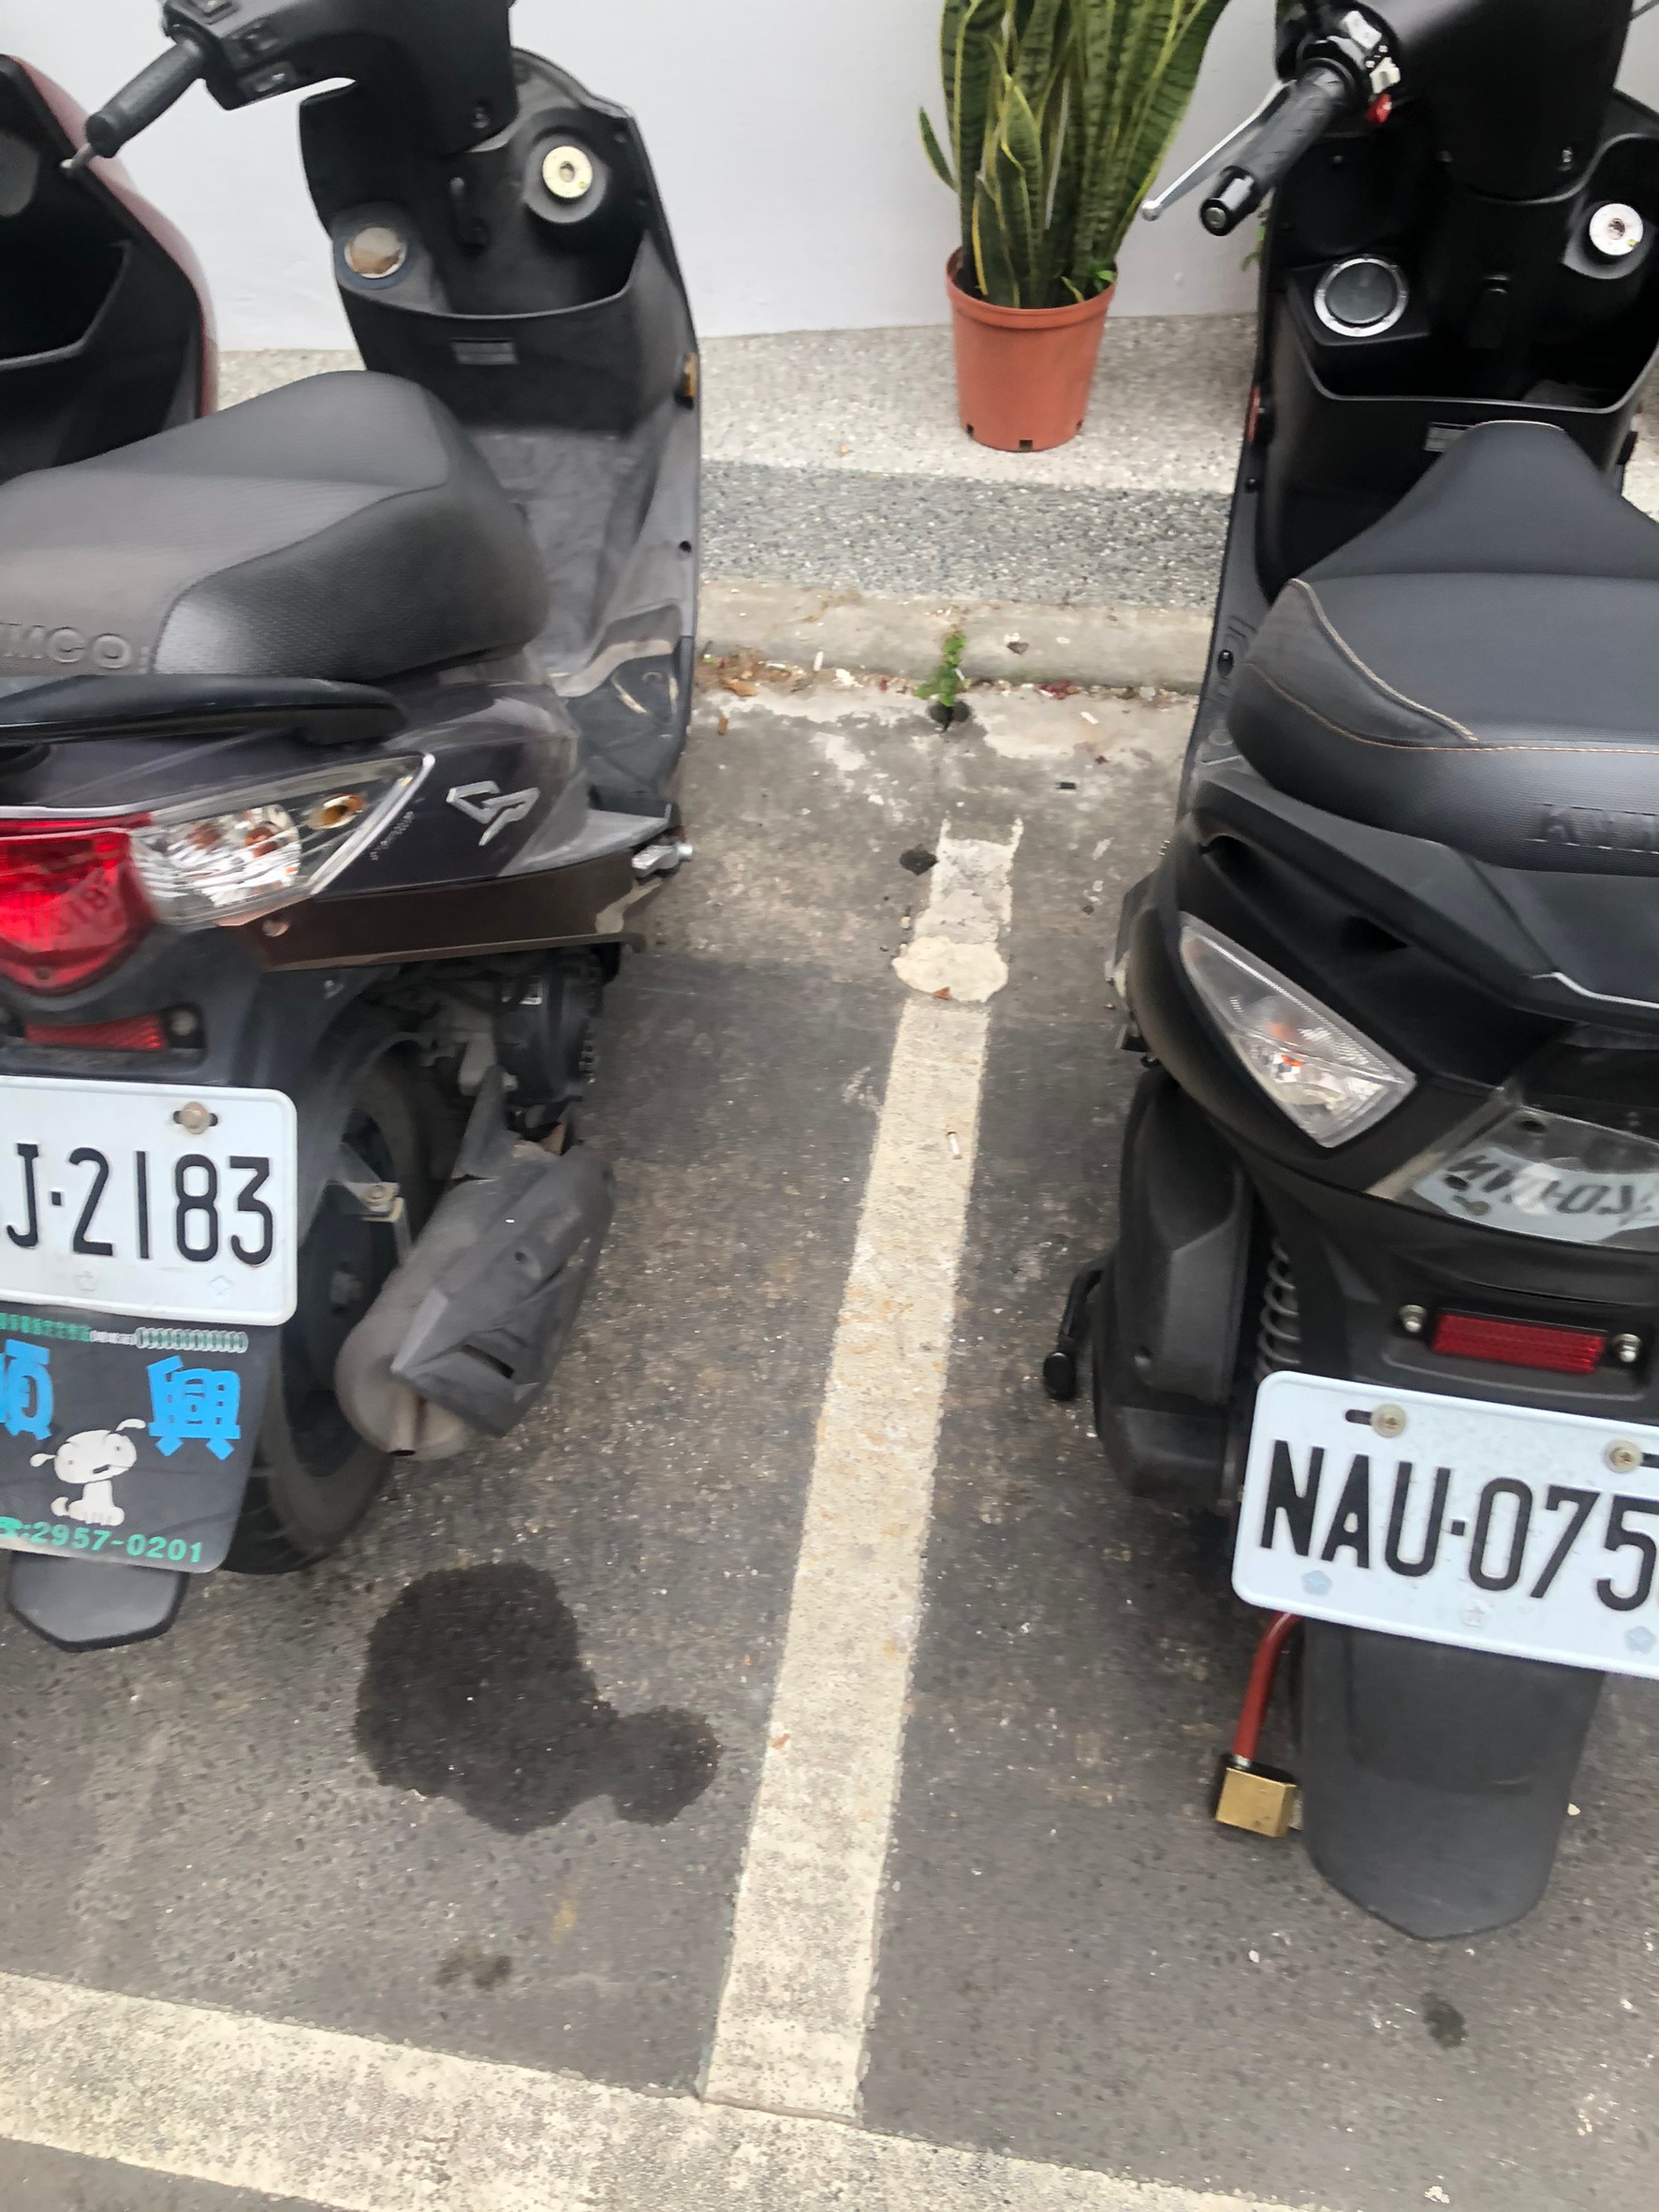LP: (1230, 1398, 1659, 1651), (2, 1070, 307, 1321)
